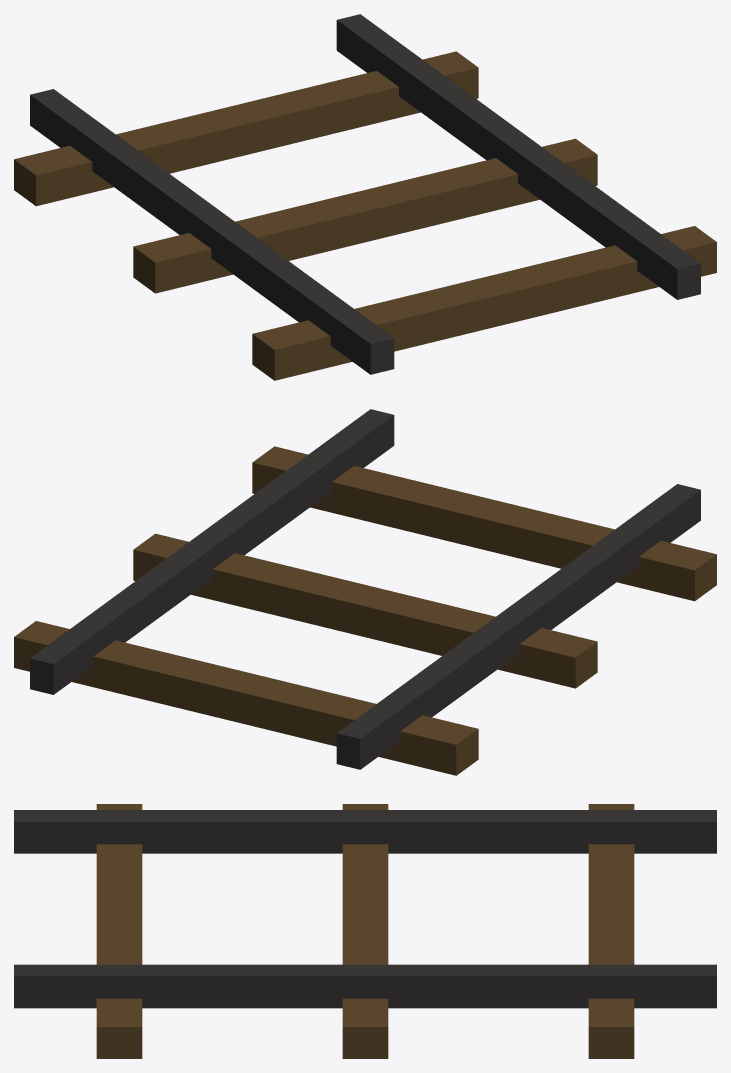
File: track.glb
The picture shows the model from 3 angles, top to bottom: view 1: azimuth 30°, elevation 25°; view 2: azimuth 150°, elevation 25°; view 3: azimuth 270°, elevation 25°; orthographic projection. The views are drawn at different scales.
Visible parts, largest first — view 1: track; view 2: track; view 3: track.
Boxes of the visible parts, box(x1,y1,x2,y2) form: track: box(14, 14, 716, 380); track: box(14, 409, 716, 775); track: box(14, 804, 716, 1058).
Size of the model in its own units: 1.5 by 0.17 by 2.
